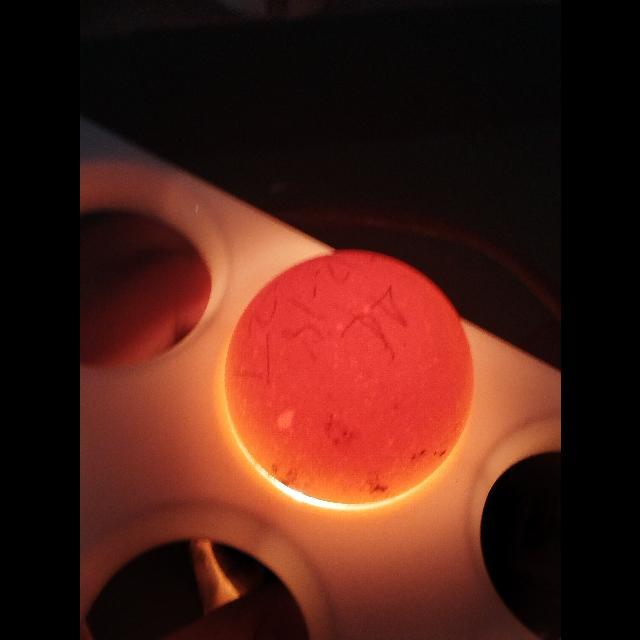Infertile: (222, 247, 476, 508)
